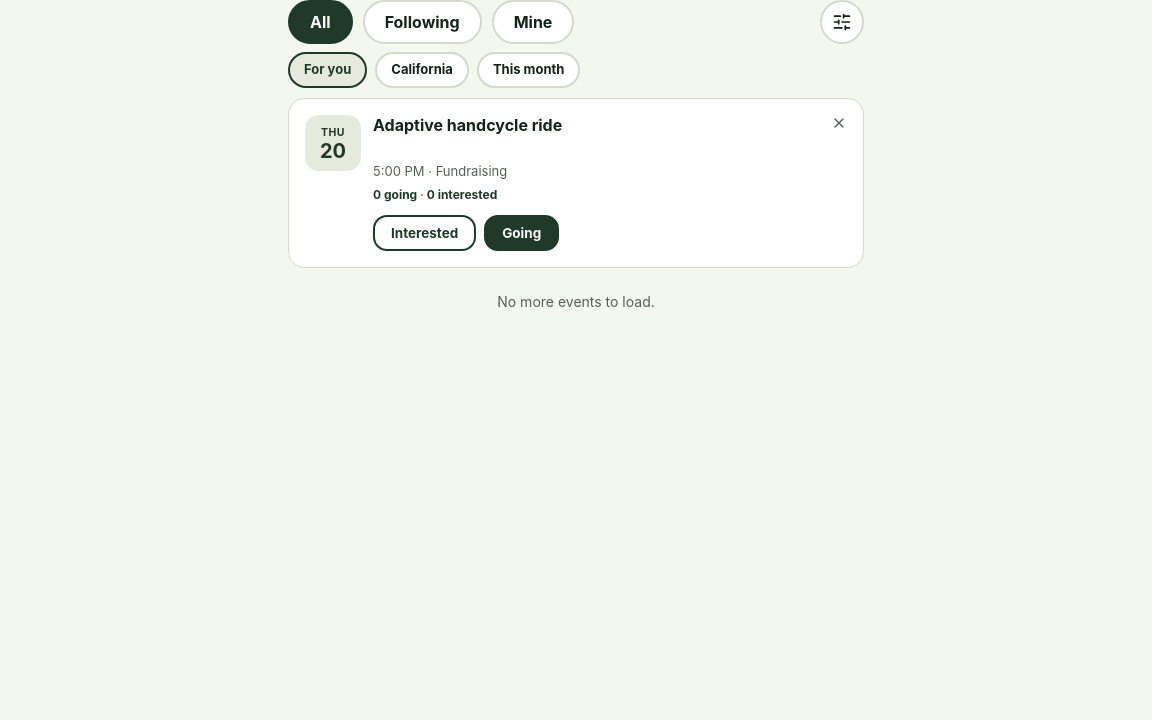
EventsPage › hands off to the host when an event is marked Going
This screenshot has width=1152, height=720.
Check: the heading "Adaptive handcycle ride" is shown, box 373,115 -> 562,135
Click the button "Going" at (522, 233), box 484,215 -> 559,251
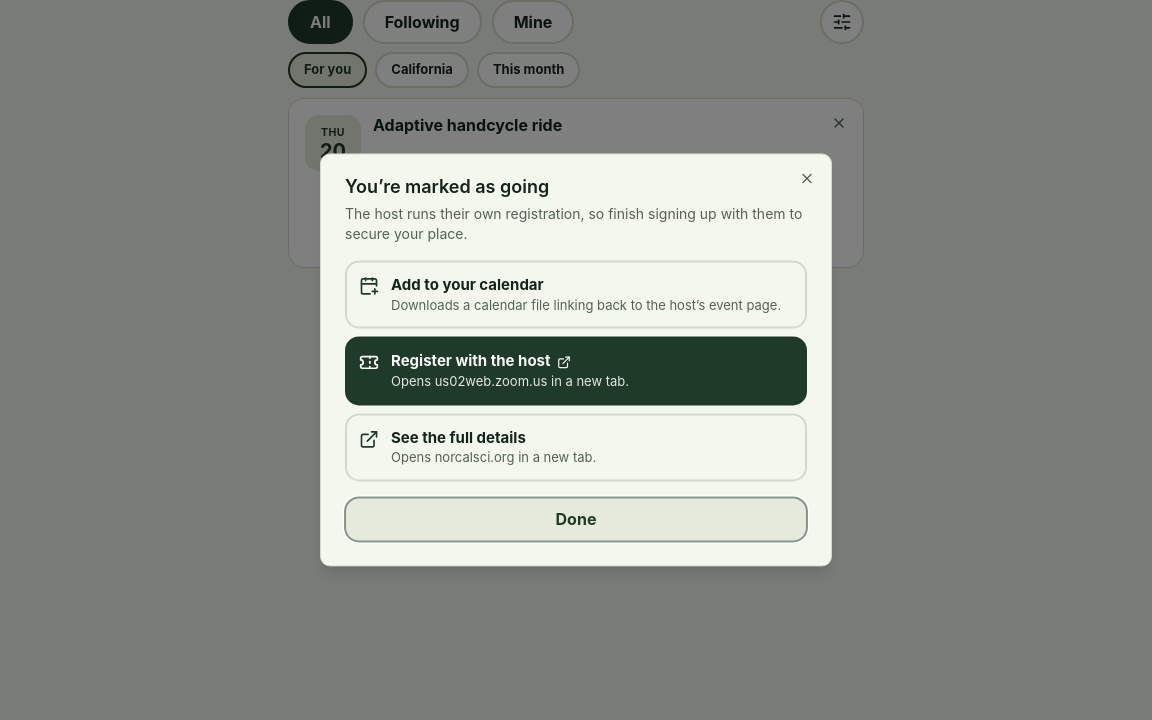
Check: the text "finish signing up with them" is shown, box 345,205 -> 802,242
Check: the text "Opens us02web.zoom.us in a new tab." is shown, box 391,373 -> 629,391
